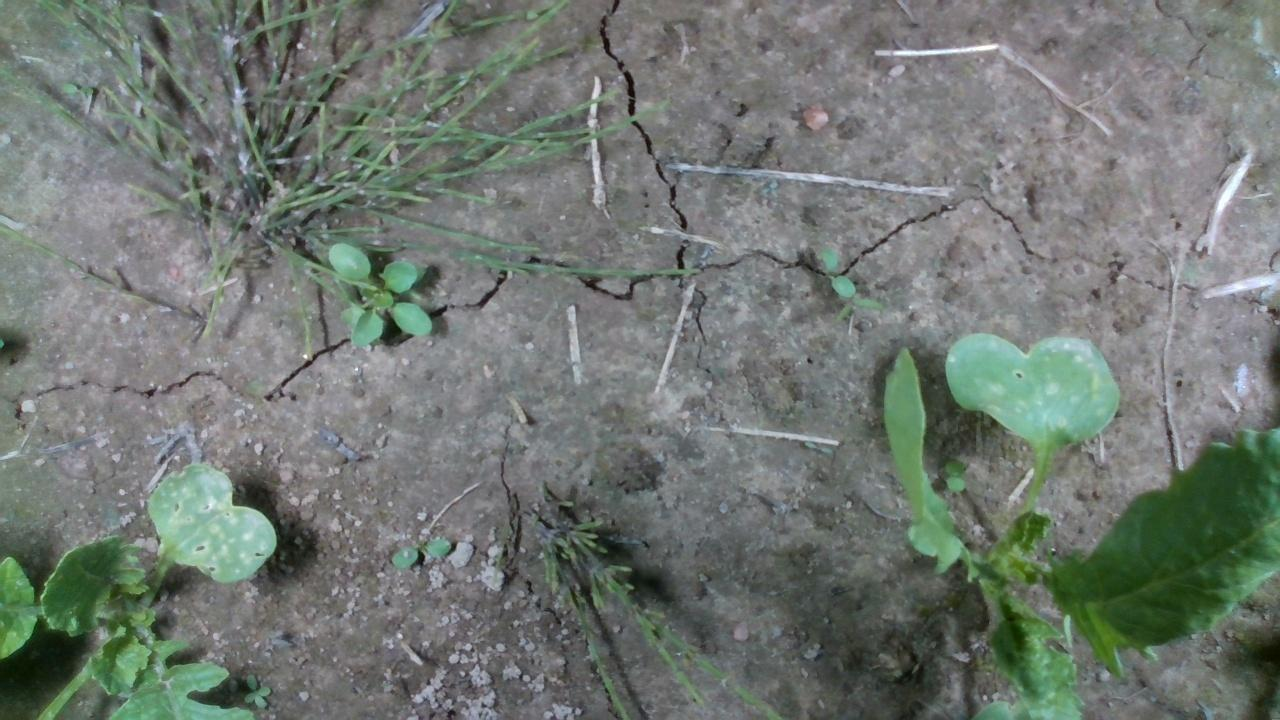weed: (388, 536, 451, 570)
